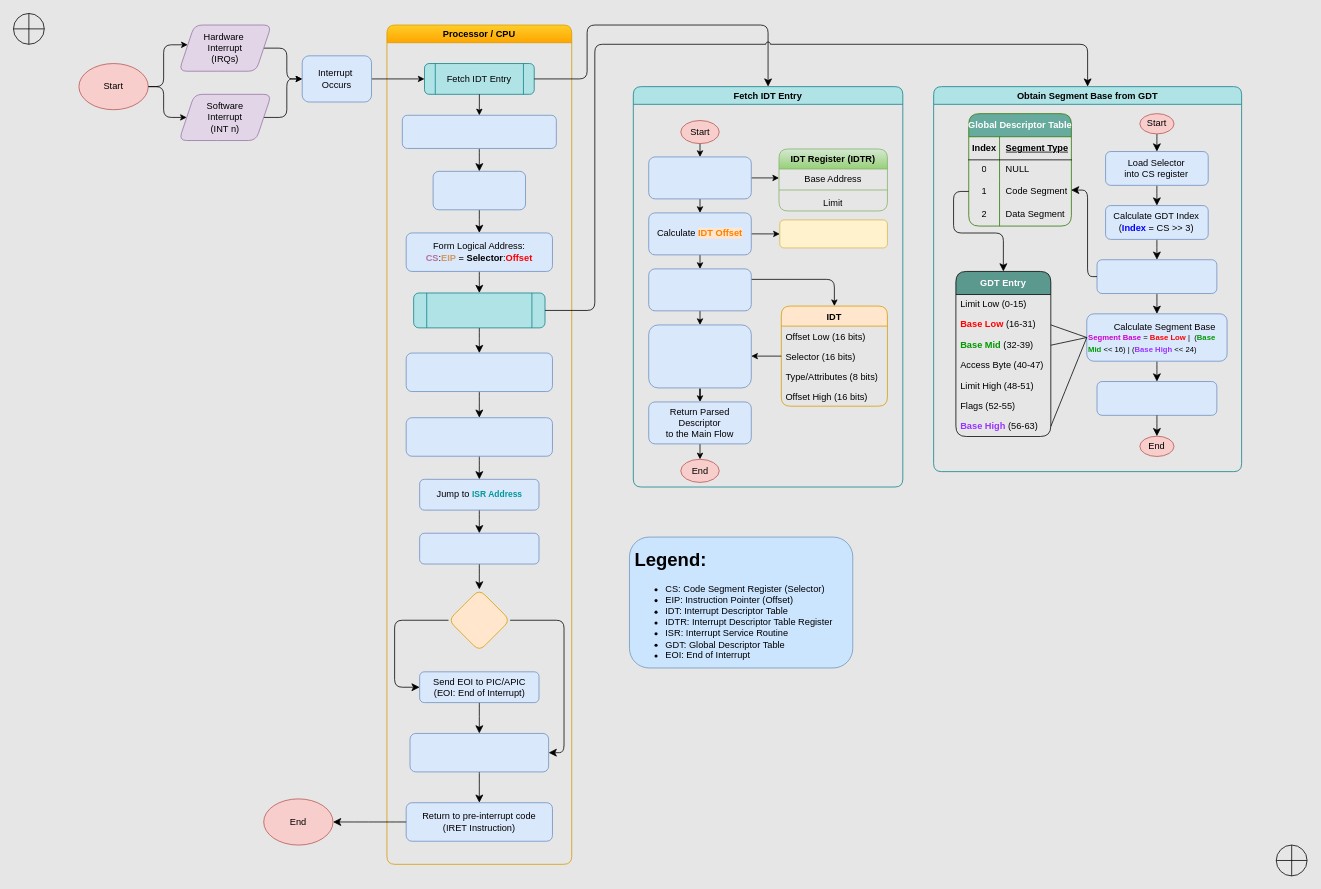
The diagram is 1321 pixels wide and 889 high, and some of its shapes have lost their labels. Here are the shapes that lost their labels. From the top down, the centre of each, then its label:
At point 479,131: "Calculate Offset Offset = (Offset High << 16) | Offset Low".
At point 479,190: "Load: Selector into CS Offset into EIP".
At point 699,177: "Check IDTR for IDT Base Address".
At point 833,233: "IDT Offset = Interrupt Number * 8".
At point 699,289: "Fetch 8-Bytes Descriptor using IDT Base + IDT Offset".
At point 1156,276: "Obtain Segment Descriptor ( Descriptor = GDT[ Index ])".
At point 479,310: "Obtain Code Segment Base Address from [CS]".
At point 478,372: "Translate to Linear Address: ISR Address = Segment Base + EIP".
At point 699,356: "Extract: - Offset Low - Selector - Type / Attributes - Offset High".
At point 1156,398: "Return Segment Base".
At point 478,436: "Push CPU State/Registers onto the STACK".
At point 479,548: "Execute ISR Instructions".
At point 479,620: "EOI Required?".
At point 479,752: "Restore CPU States/Registers from the STACK".
